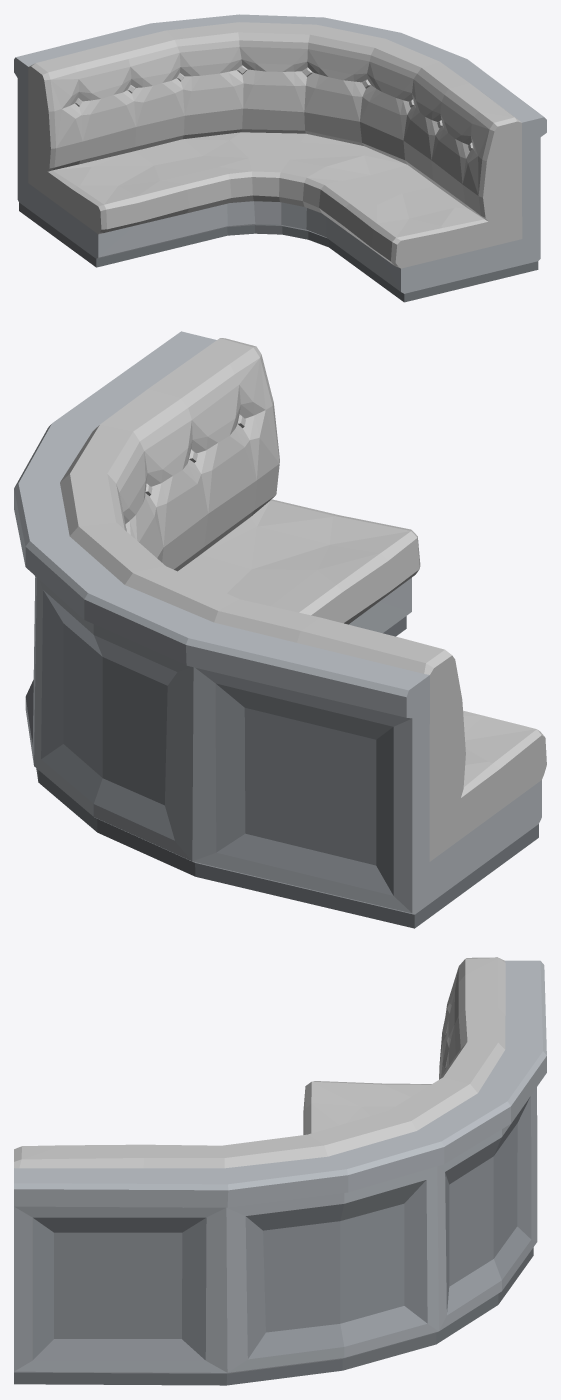
File: SM_Prop_Sofa_03_Corner_03.fbx
3 renders of one model, top to bottom at view 1: azimuth 30°, elevation 25°; view 2: azimuth 150°, elevation 25°; view 3: azimuth 270°, elevation 25°, orthographic. The views are drawn at different scales.
Parts seen in each view (by area): view 1: SM_Prop_Sofa_03_Corner_03; view 2: SM_Prop_Sofa_03_Corner_03; view 3: SM_Prop_Sofa_03_Corner_03.
Part boxes in pixels (x1,y1,x2,y2): SM_Prop_Sofa_03_Corner_03: (14, 14, 546, 302); SM_Prop_Sofa_03_Corner_03: (14, 331, 546, 928); SM_Prop_Sofa_03_Corner_03: (14, 957, 546, 1385).
Size of the model in its own units: 251 by 111 by 251.
